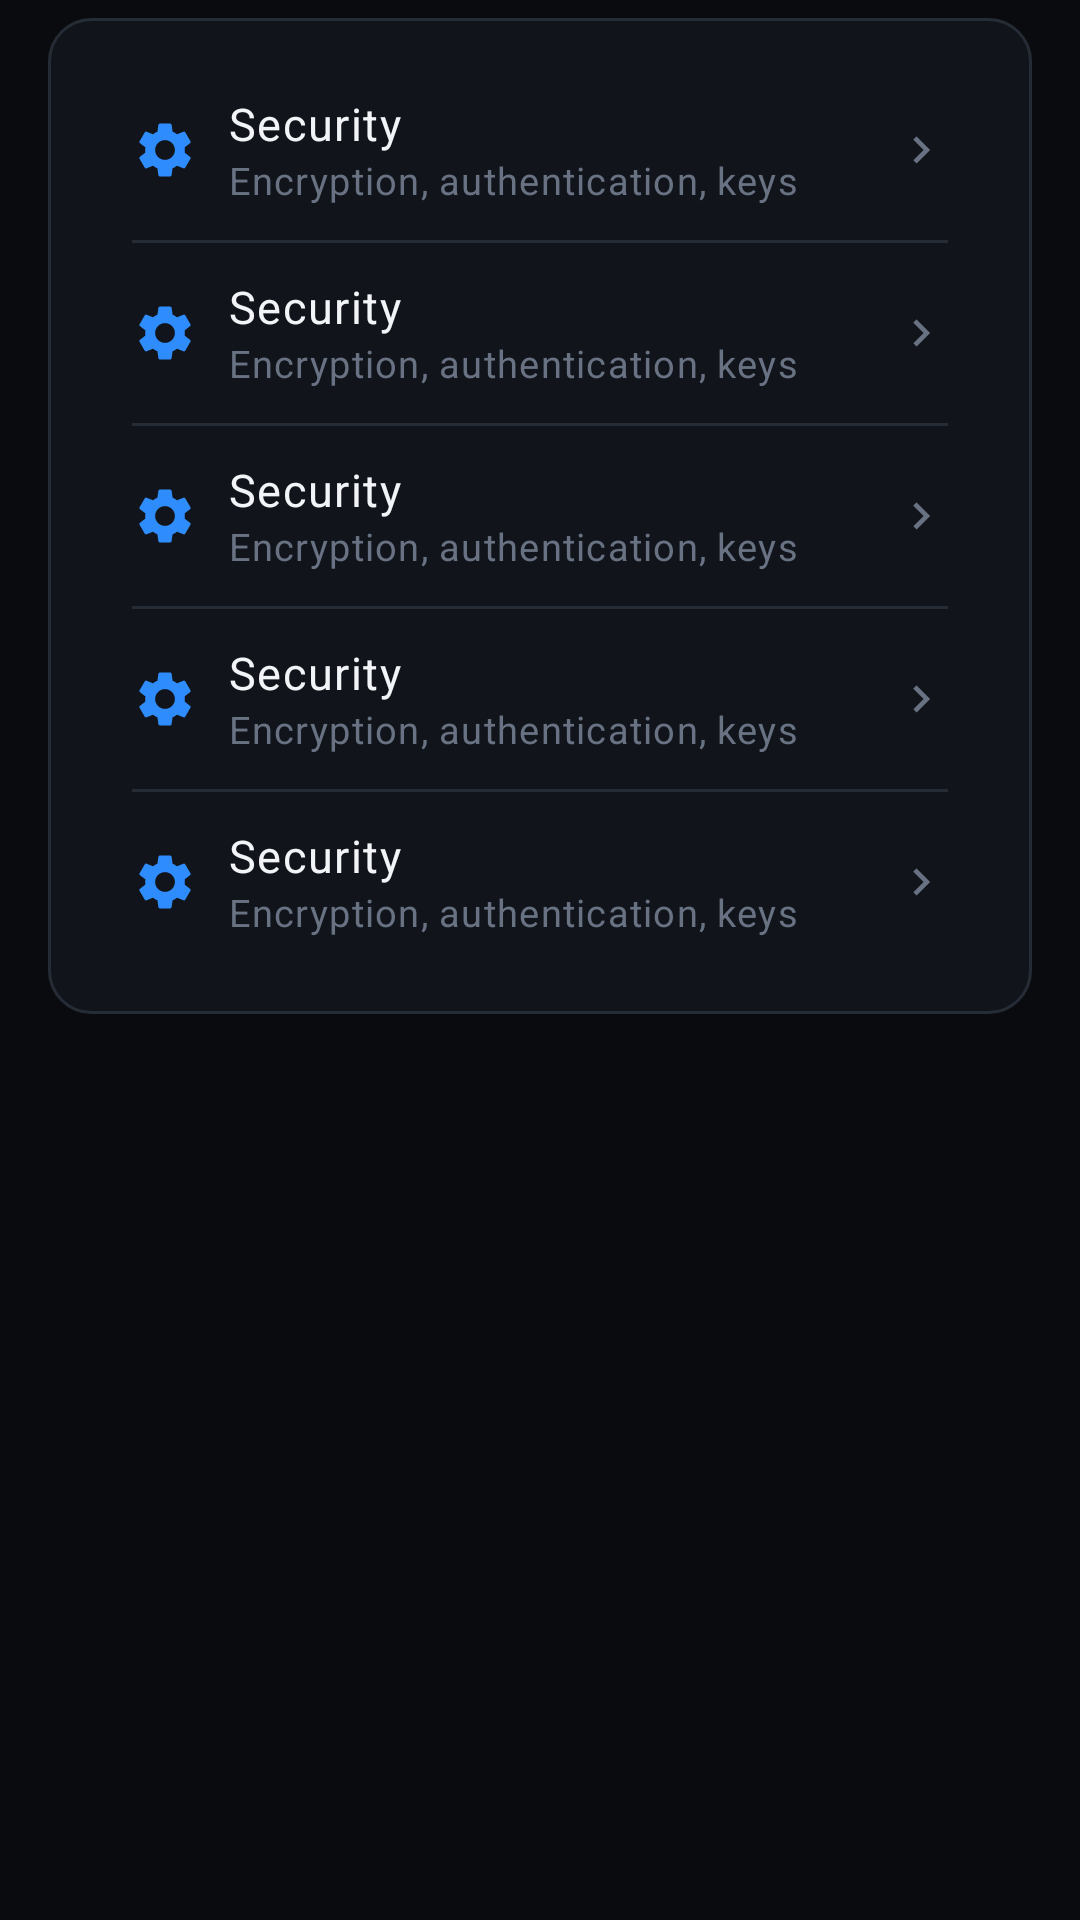

Icons on this 1080 x 1920 Android screen, each with the point to tap as point (x, y):
eq chevron: point (921, 150), point (921, 333), point (921, 516), point (921, 699), point (921, 882)
eq settings: point (165, 150), point (165, 333), point (165, 516), point (165, 699), point (165, 882)
